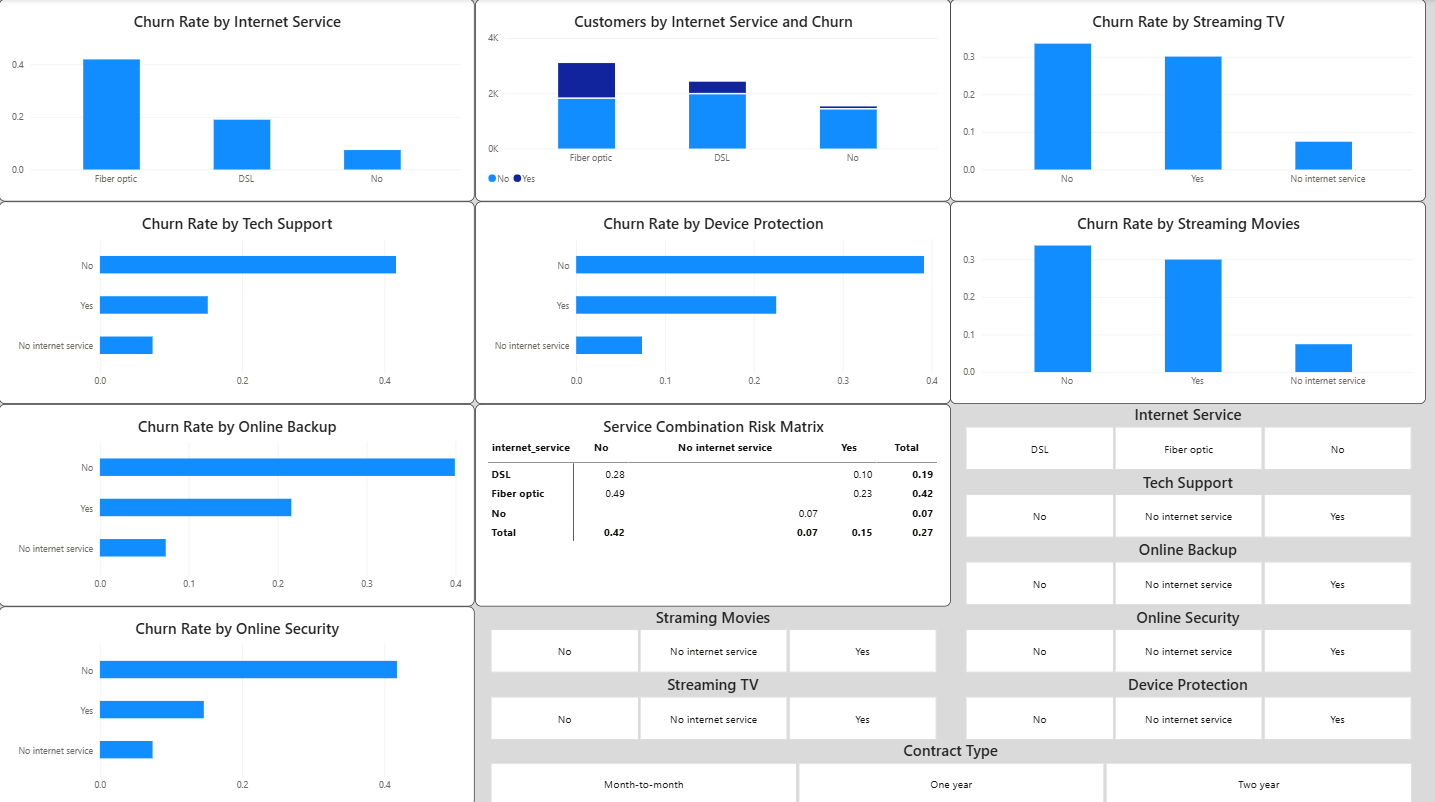

What the dashboard file says about the page in this screenshot:
{"tool":"powerbi","page":{"name":"Service Analysis","canvas":[1920,1080],"ordinal":2},"visuals":[{"type":"clusteredBarChart","title":"Churn Rate by Device Protection","fields":{"Category":["dim_services.device_protection"],"Y":["customer_churn_features.churn_rate"]},"box":[636,271,635,270],"z":0},{"type":"clusteredColumnChart","title":"Churn Rate by Internet Service","fields":{"Category":["dim_services.internet_service"],"Y":["customer_churn_features.churn_rate"]},"box":[0,0,635,270],"z":1000},{"type":"clusteredBarChart","title":"Churn Rate by Online Backup","fields":{"Category":["dim_services.online_backup"],"Y":["customer_churn_features.churn_rate"]},"box":[0,541,635,270],"z":2000},{"type":"clusteredBarChart","title":"Churn Rate by Online Security","fields":{"Category":["dim_services.online_security"],"Y":["customer_churn_features.churn_rate"]},"box":[0,811,635,269],"z":3000},{"type":"clusteredColumnChart","title":"Churn Rate by Streaming Movies","fields":{"Category":["dim_services.streaming_movies"],"Y":["customer_churn_features.churn_rate"]},"box":[1271,271,635,270],"z":4000},{"type":"clusteredColumnChart","title":"Churn Rate by Streaming TV","fields":{"Category":["dim_services.streaming_tv"],"Y":["customer_churn_features.churn_rate"]},"box":[1271,0,635,270],"z":5000},{"type":"clusteredBarChart","title":"Churn Rate by Tech Support","fields":{"Category":["dim_services.tech_support"],"Y":["customer_churn_features.churn_rate"]},"box":[0,271,635,270],"z":6000},{"type":"columnChart","title":"Customers by Internet Service and Churn","fields":{"Category":["dim_services.internet_service"],"Series":["customer_churn_features.churn"],"Y":["CountNonNull(dim_services.customer_id)"]},"box":[636,0,635,270],"z":7000},{"type":"pivotTable","title":"Service Combination Risk Matrix","fields":{"Columns":["dim_services.tech_support"],"Rows":["dim_services.internet_service"],"Values":["customer_churn_features.churn_rate"]},"box":[636,541,635,270],"z":8000},{"type":"slicer","title":"Straming Movies","fields":{"Values":["dim_services.streaming_movies"]},"box":[636,811,635,90],"z":9000},{"type":"slicer","title":"Streaming TV","fields":{"Values":["dim_services.streaming_tv"]},"box":[636,901,635,90],"z":10000},{"type":"slicer","title":"Contract Type","fields":{"Values":["dim_contract.contract_type"]},"box":[636,991,1270,89],"z":11000},{"type":"slicer","title":"Device Protection","fields":{"Values":["dim_services.device_protection"]},"box":[1271,901,635,90],"z":12000},{"type":"slicer","title":"Online Security","fields":{"Values":["dim_services.online_security"]},"box":[1271,811,635,90],"z":13000},{"type":"slicer","title":"Online Backup","fields":{"Values":["dim_services.online_backup"]},"box":[1271,721,635,90],"z":14000},{"type":"slicer","title":"Tech Support","fields":{"Values":["dim_services.tech_support"]},"box":[1271,631,635,90],"z":15000},{"type":"slicer","title":"Internet Service","fields":{"Values":["dim_services.internet_service"]},"box":[1271,541,635,90],"z":16000}]}

Visuals, with their boxes in screenshot pixels (x1, y1, x2, y2), scaled from the page's 1920x1080 canvas onto the 1435x802 screenshot:
"Churn Rate by Device Protection" clusteredBarChart: BBox(475, 201, 950, 402)
"Churn Rate by Internet Service" clusteredColumnChart: BBox(0, 0, 475, 200)
"Churn Rate by Online Backup" clusteredBarChart: BBox(0, 402, 475, 602)
"Churn Rate by Online Security" clusteredBarChart: BBox(0, 602, 475, 801)
"Churn Rate by Streaming Movies" clusteredColumnChart: BBox(950, 201, 1425, 402)
"Churn Rate by Streaming TV" clusteredColumnChart: BBox(950, 0, 1425, 200)
"Churn Rate by Tech Support" clusteredBarChart: BBox(0, 201, 475, 402)
"Customers by Internet Service and Churn" columnChart: BBox(475, 0, 950, 200)
"Service Combination Risk Matrix" pivotTable: BBox(475, 402, 950, 602)
"Straming Movies" slicer: BBox(475, 602, 950, 669)
"Streaming TV" slicer: BBox(475, 669, 950, 736)
"Contract Type" slicer: BBox(475, 736, 1425, 801)
"Device Protection" slicer: BBox(950, 669, 1425, 736)
"Online Security" slicer: BBox(950, 602, 1425, 669)
"Online Backup" slicer: BBox(950, 535, 1425, 602)
"Tech Support" slicer: BBox(950, 469, 1425, 535)
"Internet Service" slicer: BBox(950, 402, 1425, 469)
